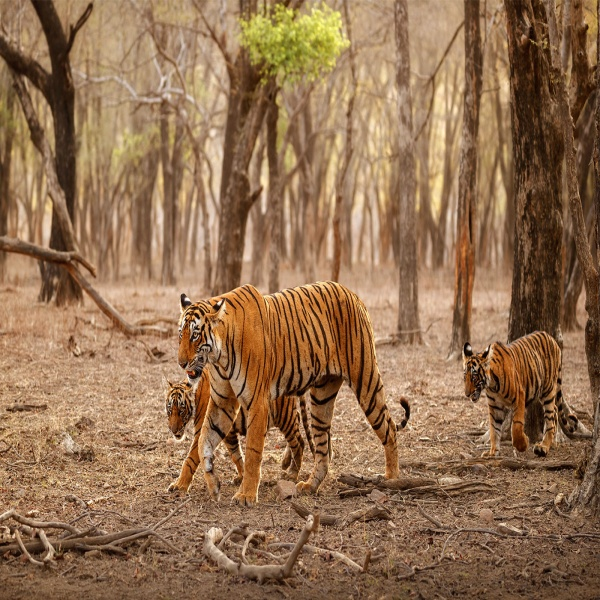Tiger: (177, 276, 417, 504), (158, 375, 322, 494), (462, 328, 581, 457)
